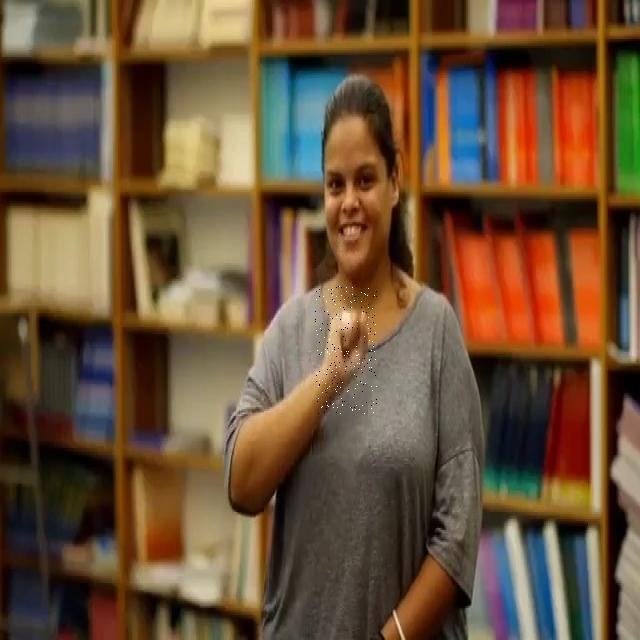icecream: (315, 286, 377, 414)
